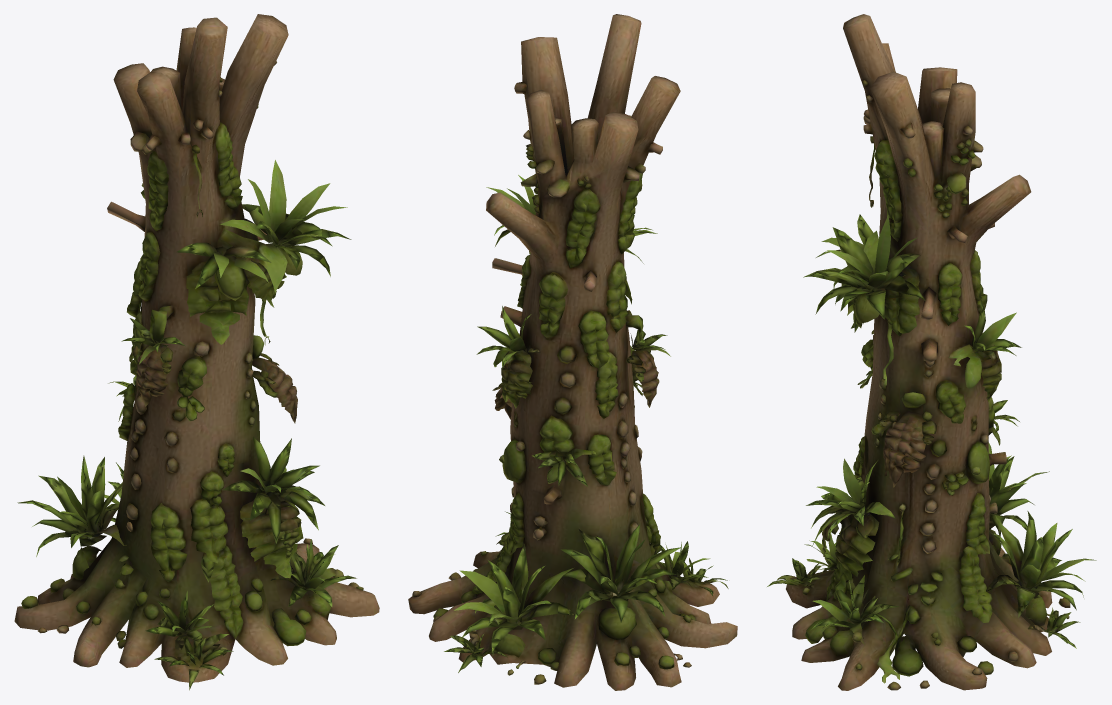
Rendered from jun_mossy_dead_tree_LOD0.glb.
3 renders of one model, left to right at view 1: azimuth 30°, elevation 25°; view 2: azimuth 150°, elevation 25°; view 3: azimuth 270°, elevation 25°, orthographic. The views are drawn at different scales.
Parts seen in each view (by area): view 1: tripo_node_c5806132-b1b8-42ec-9b28-db49bdb041b3; view 2: tripo_node_c5806132-b1b8-42ec-9b28-db49bdb041b3; view 3: tripo_node_c5806132-b1b8-42ec-9b28-db49bdb041b3.
Boxes of the visible parts, x1,y1,x2,y2 form: tripo_node_c5806132-b1b8-42ec-9b28-db49bdb041b3: [14, 14, 379, 690]; tripo_node_c5806132-b1b8-42ec-9b28-db49bdb041b3: [408, 14, 737, 690]; tripo_node_c5806132-b1b8-42ec-9b28-db49bdb041b3: [767, 14, 1096, 690].
Bounding box in the file's own units: 0.4863 × 0.998 × 0.498.
1 material, 1 textured.
